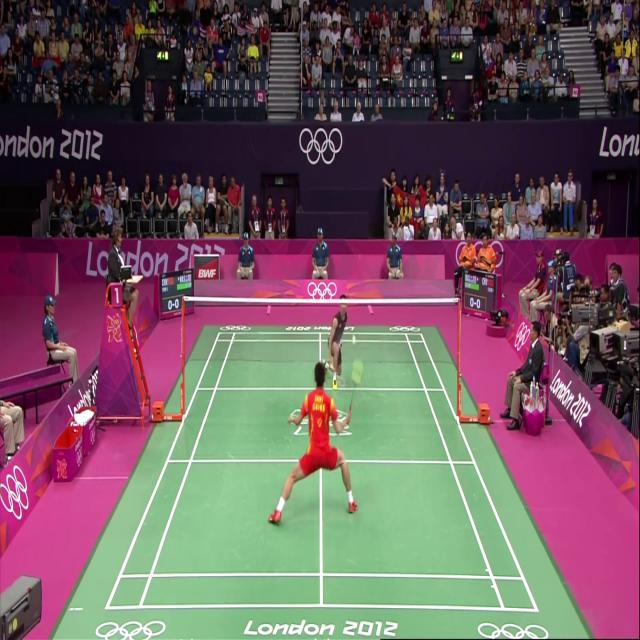Net: (180, 294, 461, 369)
Player1: (272, 356, 363, 548)
Player2: (322, 295, 357, 400)
Shuttlecock: (348, 328, 360, 349)
